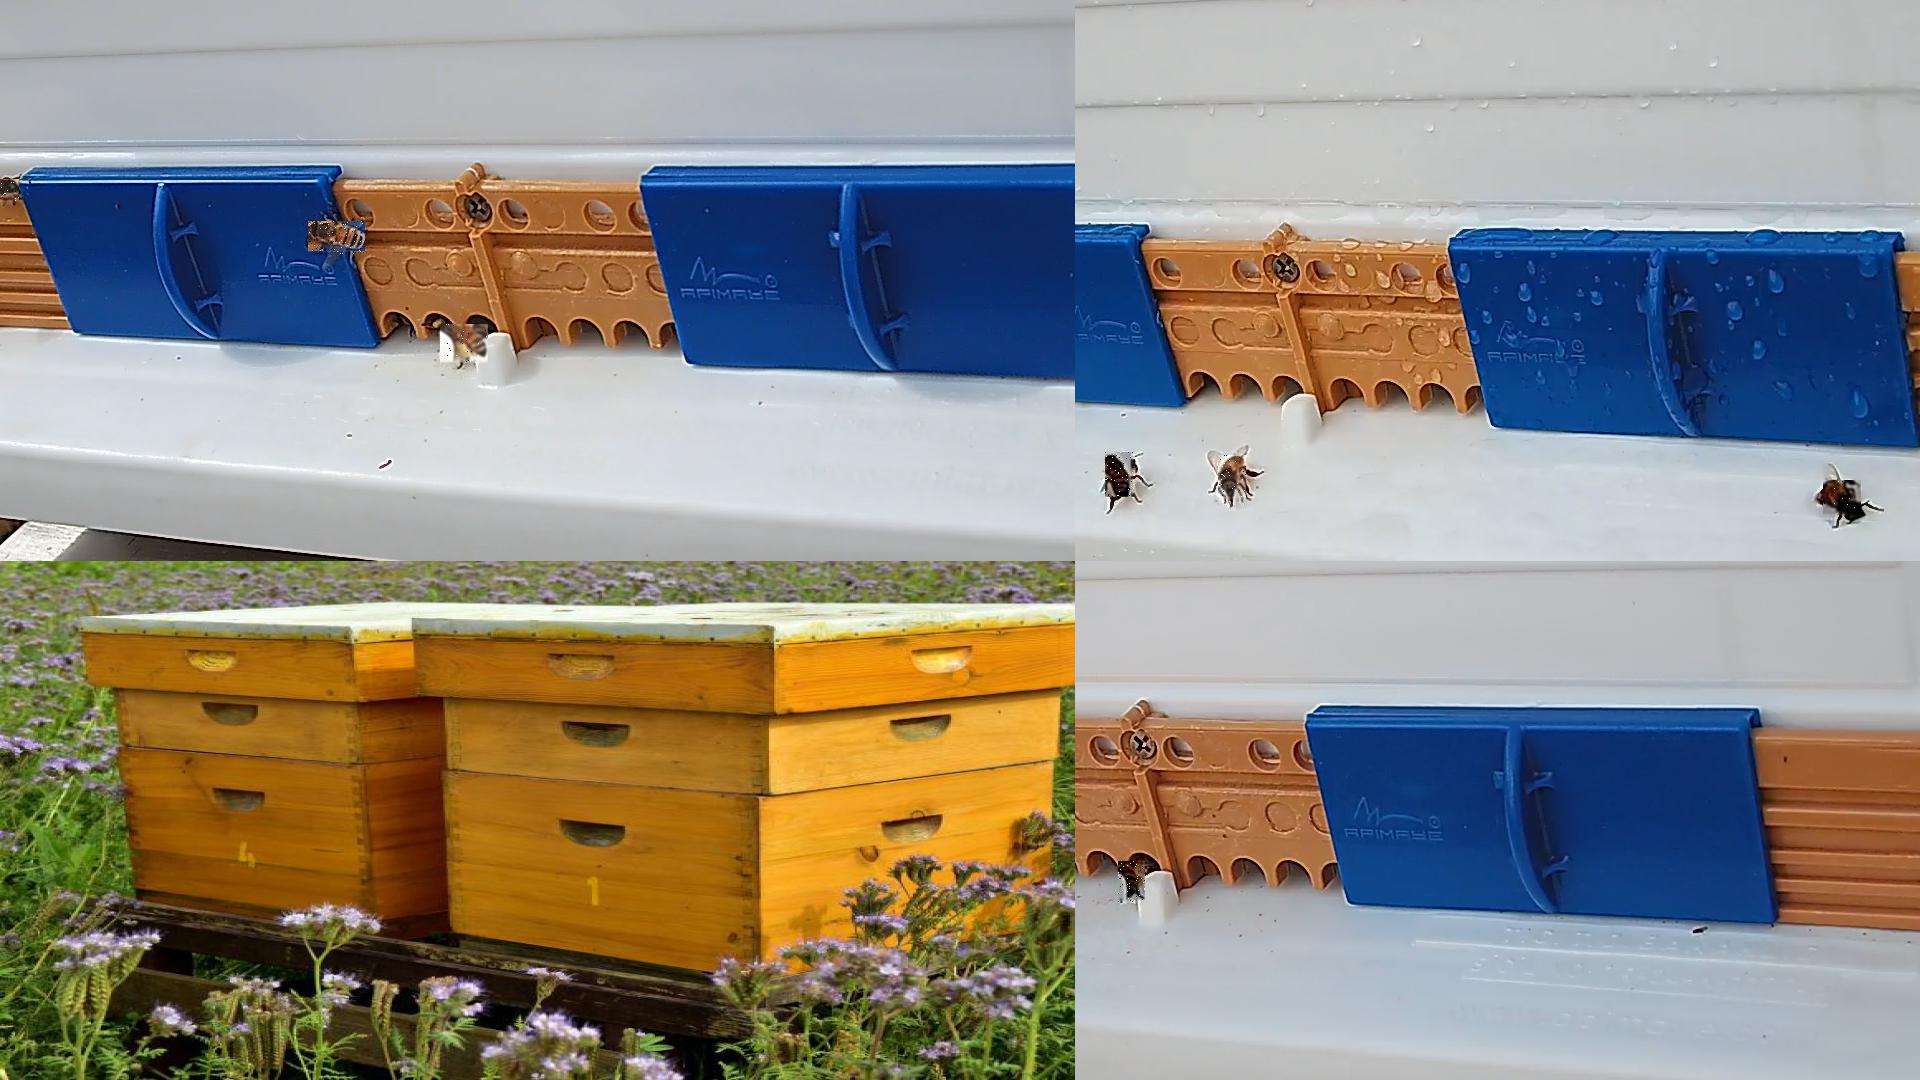bee: (309, 222, 367, 256), (1824, 481, 1862, 518), (1106, 452, 1135, 498), (1218, 456, 1247, 501), (0, 179, 21, 206)
pollenbee: (440, 324, 489, 365), (1118, 862, 1146, 903)
